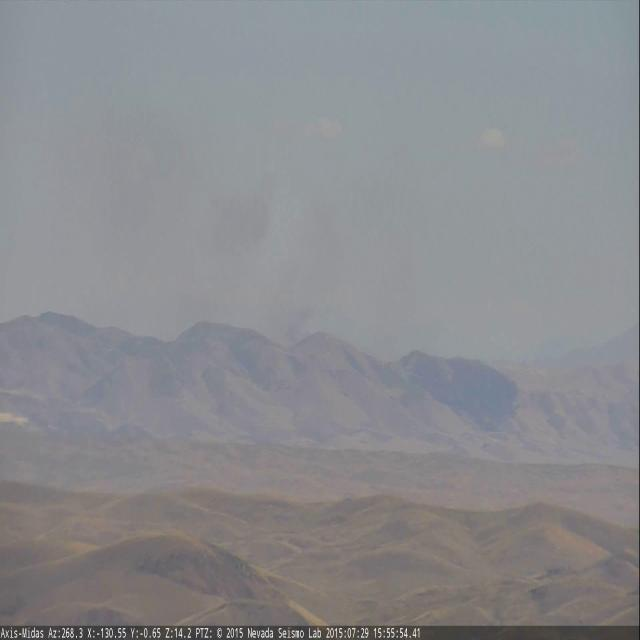smoke: (110, 105, 345, 348)
